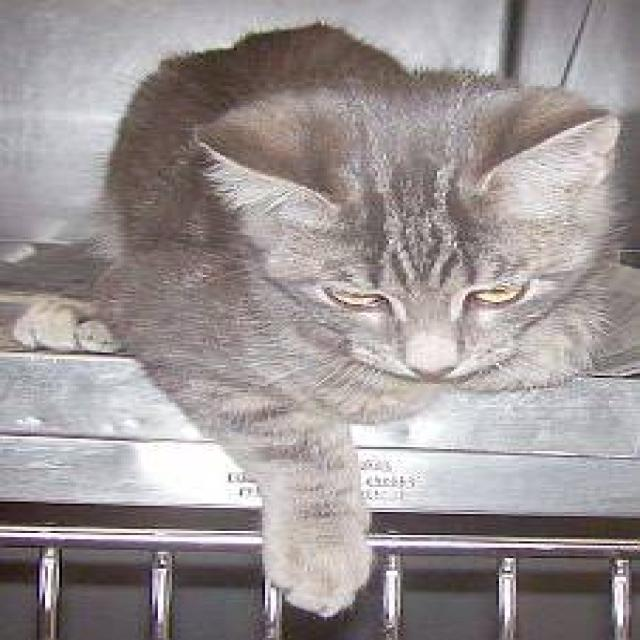cat: (11, 19, 637, 617)
